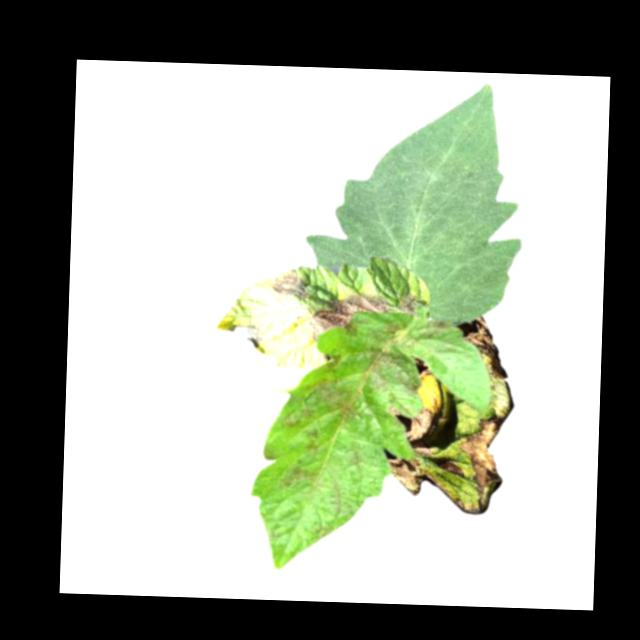Late_blight: (364, 321, 440, 397), (454, 415, 505, 517), (308, 292, 393, 343), (455, 313, 511, 379), (312, 374, 364, 424), (403, 400, 443, 453), (387, 451, 427, 496), (225, 318, 265, 348), (269, 271, 309, 299), (278, 463, 319, 490), (397, 290, 422, 316), (436, 458, 462, 478), (386, 404, 402, 416)
